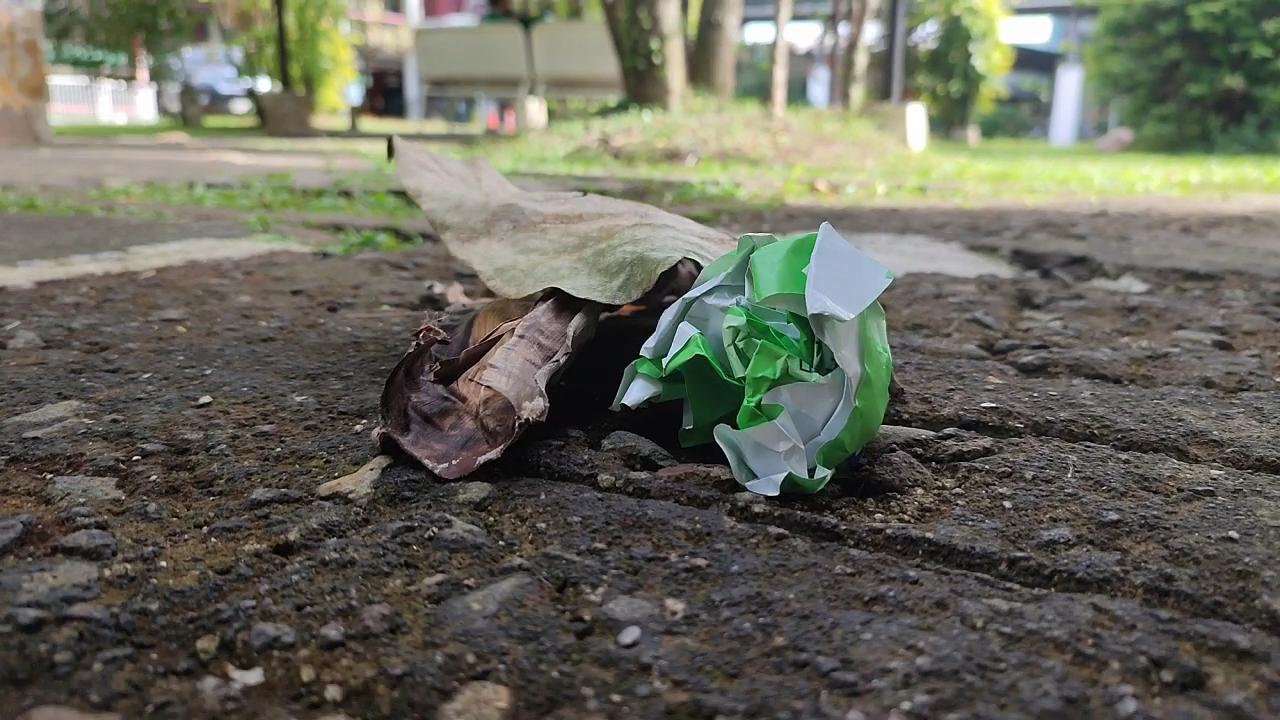Paper: (610, 202, 912, 514)
